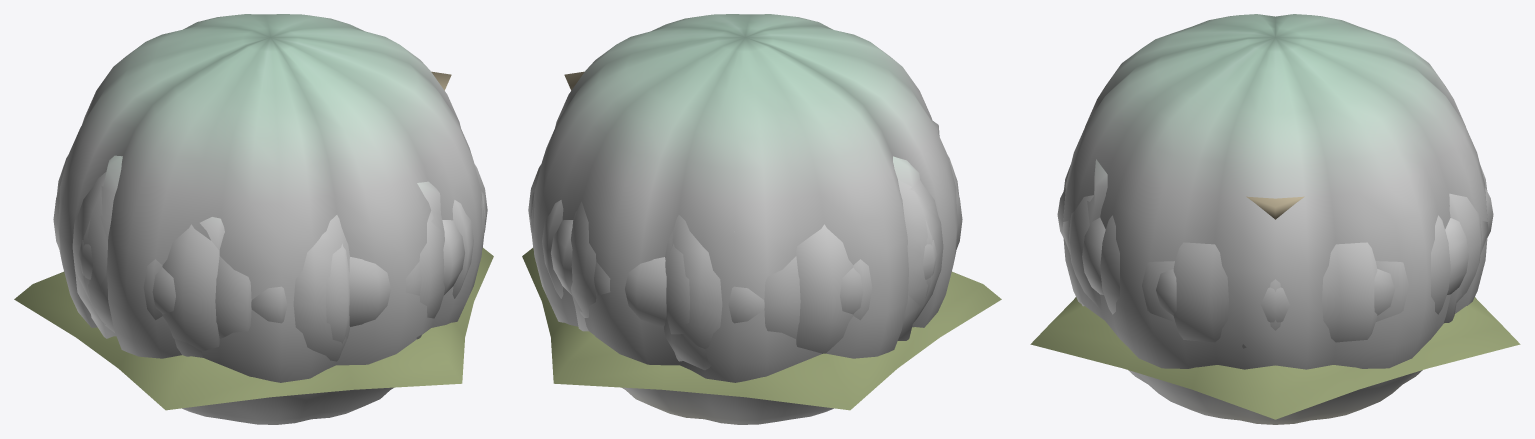
The model's file is pumpkins.glb.
3 views of the same model, side by side, from view 1: azimuth 30°, elevation 25°; view 2: azimuth 150°, elevation 25°; view 3: azimuth 270°, elevation 25° (orthographic).
Visible parts, largest first — view 1: tall, stem, field, giant, cinderella, warty; view 2: tall, stem, field, giant, cinderella, warty; view 3: tall, stem, giant, cinderella, field, warty.
Part boxes in pixels (x1,y1,x2,y2): tall: (58, 14, 482, 424); stem: (14, 71, 493, 410); field: (56, 156, 485, 361); giant: (53, 164, 487, 343); cinderella: (78, 191, 487, 326); warty: (72, 155, 444, 357); tall: (533, 14, 957, 424); stem: (522, 71, 1001, 410); field: (530, 156, 959, 361); giant: (528, 164, 962, 338); cinderella: (528, 191, 937, 326); warty: (571, 119, 942, 370); tall: (1063, 14, 1487, 424); stem: (1030, 196, 1520, 419); giant: (1062, 165, 1488, 342); cinderella: (1057, 188, 1493, 322); field: (1069, 193, 1481, 321); warty: (1081, 159, 1461, 348).
Size of the model in its own units: 2.25 by 1.91 by 2.32.
